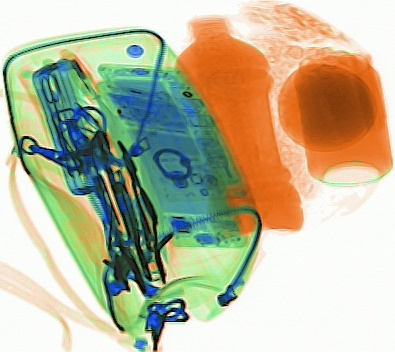scissors: (38, 71, 65, 135)
